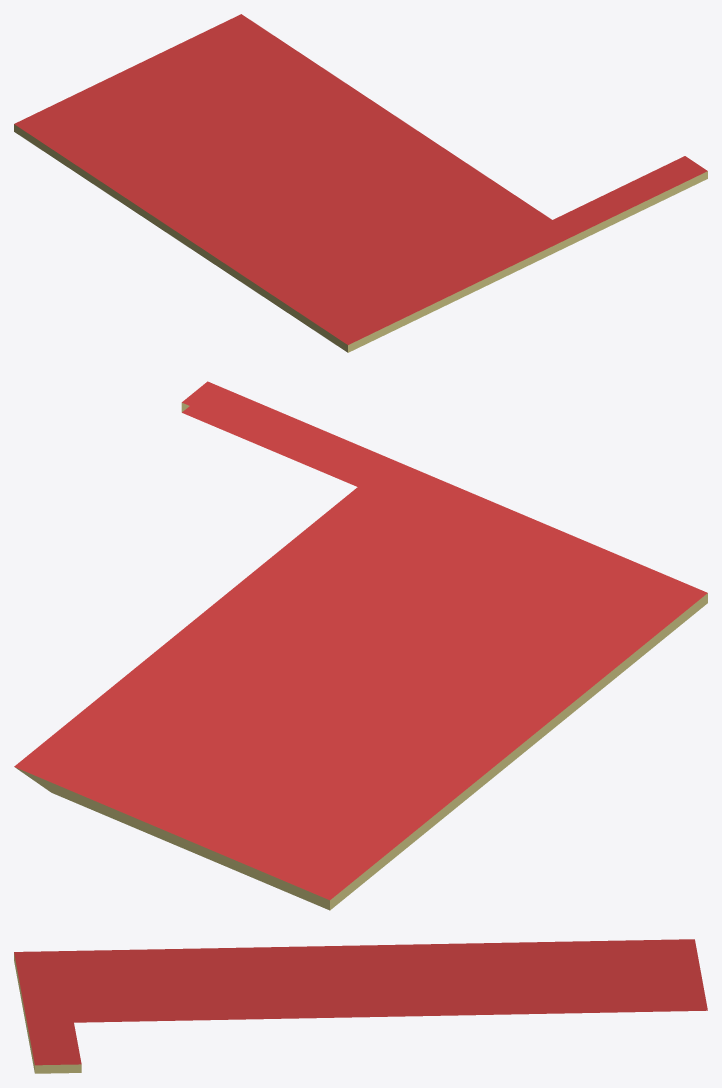
3 views of the same model, one above another, from view 1: azimuth 30°, elevation 25°; view 2: azimuth 150°, elevation 25°; view 3: azimuth 270°, elevation 25° (orthographic). The views are drawn at different scales.
Size of the model in its own units: 5.32 by 7.41 by 1.1.
